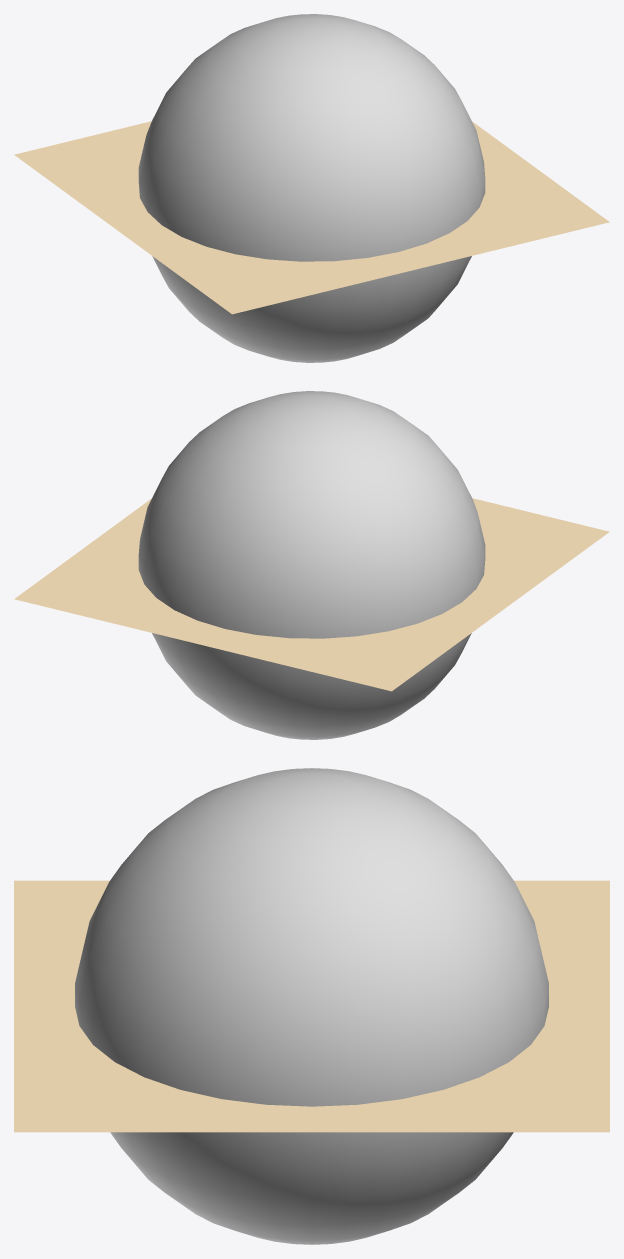
Rendered from 1633440768475-punk 120.glb.
The picture shows the model from 3 angles, top to bottom: view 1: azimuth 30°, elevation 25°; view 2: azimuth 150°, elevation 25°; view 3: azimuth 270°, elevation 25°; orthographic projection. The views are drawn at different scales.
Visible parts, largest first — view 1: object 2, object 1; view 2: object 2, object 1; view 3: object 2, object 1.
Boxes of the visible parts, <box> form: object 2: <box>138,14,485,362</box>; object 1: <box>14,121,609,314</box>; object 2: <box>138,391,485,739</box>; object 1: <box>14,498,609,691</box>; object 2: <box>75,768,548,1244</box>; object 1: <box>14,880,609,1132</box>.
Size of the model in its own units: 10000 by 8000 by 10000.
